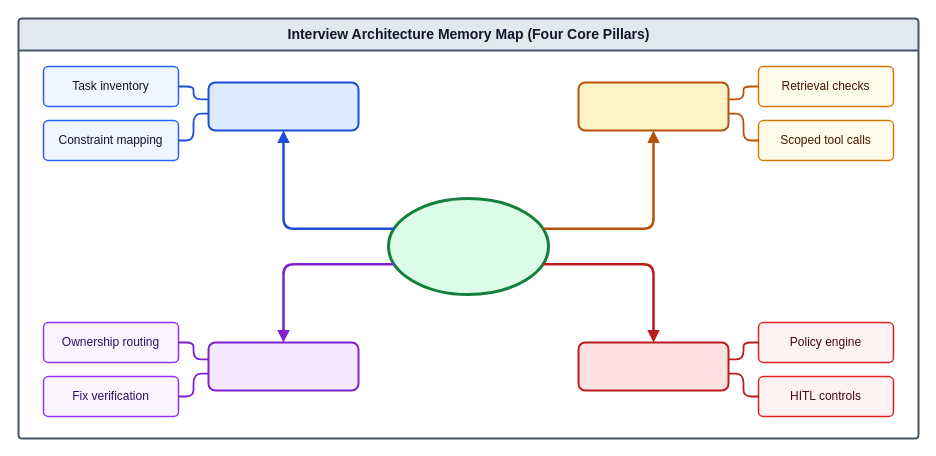
This 936x456 diagram has some shape labels left out. The centre of each missing label's shape, as x and y in pixels:
1 · Framing: [283,106]
2 · Execution: [653,106]
3 · Iteration: [283,366]
4 · Safety: [653,366]
LLM Agent System: [468,246]
